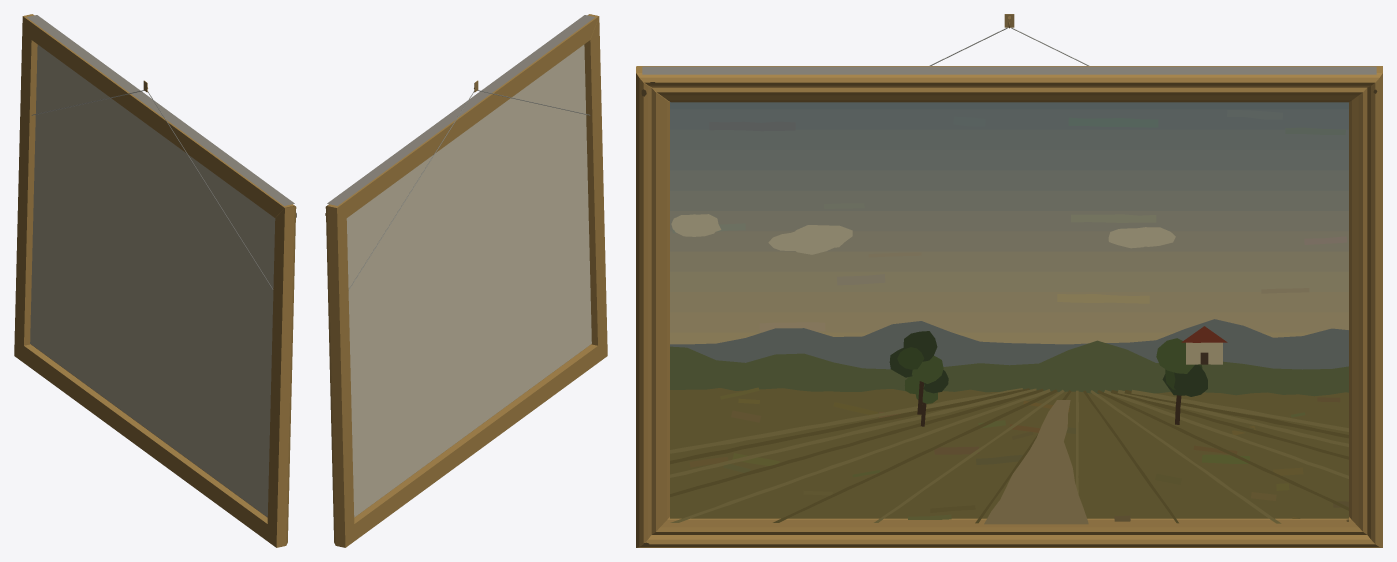
File: painting_a.glb
3 views of the same model, side by side, from view 1: azimuth 30°, elevation 25°; view 2: azimuth 150°, elevation 25°; view 3: azimuth 270°, elevation 25° (orthographic). The views are drawn at different scales.
Parts seen in each view (by area): view 1: bild, aufhaengung; view 2: bild, aufhaengung; view 3: bild.
Part boxes in pixels (x1,y1,x2,y2): bild: (14, 14, 296, 547); aufhaengung: (31, 80, 273, 290); bild: (325, 14, 607, 547); aufhaengung: (348, 80, 590, 290); bild: (636, 66, 1382, 547).
Size of the model in its own units: 0.0681 by 0.9427 by 1.21.
